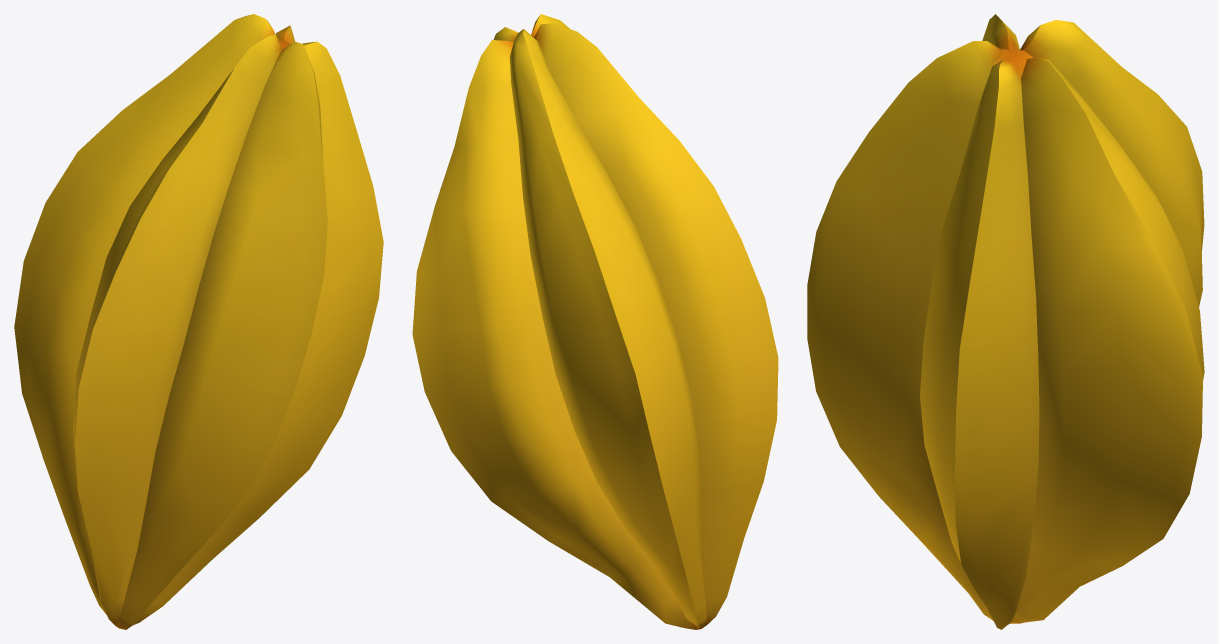
Rendered from StarFruit.fbx.
3 renders of one model, left to right at view 1: azimuth 30°, elevation 25°; view 2: azimuth 150°, elevation 25°; view 3: azimuth 270°, elevation 25°, orthographic. The views are drawn at different scales.
Parts seen in each view (by area): view 1: SrarFruit; view 2: SrarFruit; view 3: SrarFruit.
Part boxes in pixels (<box>): SrarFruit: <box>14,14,383,629</box>; SrarFruit: <box>412,14,778,629</box>; SrarFruit: <box>807,14,1204,629</box>.
Bounding box in the file's own units: 131 × 231 × 120.
Materials: 1 (1 with a texture image).
